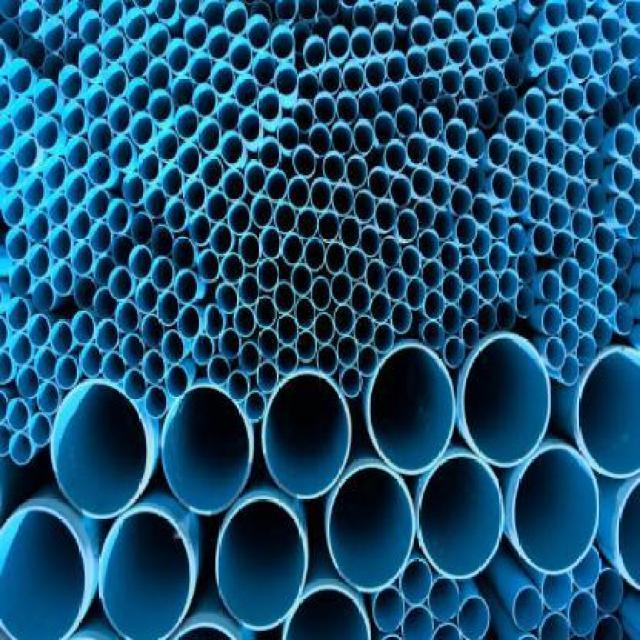pipe: (53, 380, 150, 519), (99, 506, 196, 639), (162, 381, 253, 517), (217, 495, 308, 631), (462, 332, 551, 466), (2, 505, 91, 639), (366, 341, 454, 474), (262, 368, 351, 499), (514, 443, 600, 576), (328, 465, 416, 593), (419, 452, 505, 580), (576, 345, 639, 478), (283, 583, 372, 639), (428, 577, 461, 623), (400, 560, 433, 606), (372, 586, 405, 631), (457, 596, 491, 639), (514, 586, 545, 631), (573, 545, 602, 591), (568, 591, 596, 637), (594, 570, 622, 613), (401, 605, 434, 639), (543, 573, 572, 610), (8, 57, 33, 94), (34, 346, 59, 382), (59, 65, 84, 101), (79, 45, 104, 81), (54, 356, 80, 390), (10, 332, 36, 366), (148, 89, 174, 123), (19, 2, 45, 36), (160, 329, 185, 363), (108, 266, 133, 300), (68, 206, 93, 240), (265, 169, 290, 203), (200, 156, 225, 190), (292, 145, 317, 179), (420, 106, 445, 140), (192, 83, 217, 117), (274, 63, 299, 97), (228, 37, 253, 71), (223, 0, 248, 34), (51, 320, 74, 356), (6, 297, 29, 333), (174, 269, 197, 305), (14, 134, 37, 170), (13, 97, 36, 133), (34, 78, 57, 114), (234, 72, 257, 108), (253, 51, 276, 87), (350, 26, 373, 62), (15, 366, 40, 399), (115, 301, 140, 334), (220, 252, 245, 285), (211, 223, 236, 256), (222, 169, 247, 202), (65, 137, 90, 170), (174, 106, 199, 139), (126, 78, 151, 111), (540, 610, 568, 639), (6, 228, 29, 263), (102, 28, 125, 63), (157, 291, 179, 327), (93, 286, 117, 319), (309, 121, 331, 157), (578, 14, 600, 50), (30, 414, 53, 448), (37, 382, 60, 416), (122, 334, 145, 368), (28, 314, 51, 348), (73, 311, 96, 345), (254, 296, 277, 330), (136, 280, 159, 314), (10, 263, 33, 297), (51, 262, 74, 296), (151, 256, 174, 290), (239, 232, 262, 266), (50, 228, 73, 262), (131, 211, 154, 245), (613, 194, 636, 228), (2, 194, 25, 228), (183, 179, 206, 213), (43, 157, 66, 191), (88, 152, 111, 186), (259, 136, 282, 170), (131, 111, 154, 145), (239, 108, 262, 142), (62, 102, 85, 136), (108, 100, 131, 134), (257, 88, 280, 122), (608, 62, 631, 96), (211, 62, 234, 96), (148, 59, 171, 93), (126, 45, 149, 79), (271, 25, 294, 59), (146, 23, 169, 57), (185, 16, 208, 50), (125, 8, 148, 42), (63, 0, 86, 34), (206, 356, 231, 387), (102, 352, 127, 383), (95, 320, 120, 351), (88, 222, 113, 253), (89, 120, 114, 151), (171, 76, 196, 107), (188, 52, 213, 83), (143, 350, 165, 385), (108, 199, 130, 234), (10, 432, 33, 465), (80, 345, 103, 378), (257, 328, 280, 361), (276, 314, 299, 347), (282, 232, 305, 265), (26, 211, 49, 244), (86, 188, 109, 221), (411, 166, 434, 199), (110, 137, 133, 170), (156, 129, 179, 162), (197, 118, 220, 151), (503, 111, 526, 144), (336, 91, 359, 124), (303, 35, 326, 68), (600, 12, 623, 45), (179, 305, 200, 341), (81, 9, 102, 45), (8, 399, 30, 433), (257, 360, 279, 394), (558, 320, 580, 354), (74, 276, 96, 310), (129, 245, 151, 279), (189, 212, 211, 246), (317, 209, 339, 243), (397, 208, 419, 242), (311, 179, 333, 213), (288, 176, 310, 210), (23, 174, 45, 208), (65, 172, 87, 206), (162, 163, 184, 197), (346, 154, 368, 188), (385, 139, 407, 173), (614, 123, 636, 157), (37, 116, 59, 150), (395, 103, 417, 137), (292, 99, 314, 133), (314, 92, 336, 126), (358, 88, 380, 122), (585, 79, 607, 113), (343, 59, 365, 93), (532, 34, 554, 68), (328, 25, 350, 59), (43, 19, 65, 53), (357, 345, 379, 378), (545, 337, 567, 370), (142, 315, 164, 348), (391, 301, 413, 334), (274, 281, 296, 314), (331, 272, 353, 305), (477, 271, 499, 304), (72, 243, 94, 276), (380, 235, 402, 268), (165, 198, 187, 231), (252, 195, 274, 228), (145, 186, 167, 219), (449, 185, 471, 218), (369, 166, 391, 199), (612, 160, 634, 193), (428, 141, 450, 174), (222, 132, 244, 165), (406, 132, 428, 165), (332, 121, 354, 154), (278, 118, 300, 151), (545, 98, 567, 131), (523, 88, 545, 121), (463, 69, 485, 102), (320, 61, 342, 94), (365, 57, 387, 90), (2, 20, 24, 53), (454, 1, 476, 34), (311, 275, 331, 311), (245, 160, 265, 196), (374, 111, 394, 147), (241, 342, 262, 376), (199, 249, 220, 283), (28, 246, 49, 280), (179, 142, 200, 176), (87, 83, 108, 117), (105, 65, 126, 99), (168, 39, 189, 73), (208, 26, 229, 60), (248, 16, 269, 50), (219, 328, 242, 359), (559, 289, 582, 320), (257, 260, 280, 291), (574, 240, 597, 271), (173, 237, 196, 268), (151, 225, 174, 256), (296, 208, 319, 239), (228, 203, 251, 234), (331, 185, 354, 216), (379, 83, 402, 114), (297, 71, 320, 102), (373, 23, 396, 54), (551, 231, 576, 259), (412, 200, 437, 228), (619, 28, 639, 63), (124, 172, 145, 205), (219, 98, 240, 131), (2, 152, 21, 188), (342, 368, 364, 399), (166, 366, 188, 397), (317, 345, 339, 376), (337, 336, 359, 367), (192, 336, 214, 367), (354, 316, 376, 347), (234, 306, 256, 337), (332, 305, 354, 336), (423, 289, 445, 320), (238, 274, 260, 305), (575, 272, 597, 303), (291, 265, 313, 296), (560, 259, 582, 290), (595, 256, 617, 287), (400, 246, 422, 277), (418, 229, 440, 260), (532, 223, 554, 254), (594, 223, 616, 254), (340, 217, 362, 248), (455, 216, 477, 247), (571, 209, 593, 240), (432, 209, 454, 240), (274, 203, 296, 234), (374, 200, 396, 231), (548, 200, 570, 231), (46, 194, 68, 225), (206, 192, 228, 223), (323, 152, 345, 183), (138, 151, 160, 182), (563, 146, 585, 177), (602, 97, 624, 128), (442, 65, 464, 96), (43, 52, 65, 83), (406, 46, 428, 77), (411, 16, 433, 47), (432, 11, 454, 42), (614, 302, 634, 336), (296, 297, 316, 331), (305, 237, 325, 271), (262, 226, 282, 260), (391, 174, 411, 208), (526, 157, 546, 191), (508, 145, 528, 179), (216, 283, 239, 312), (562, 83, 585, 112), (23, 39, 46, 68), (297, 331, 317, 364), (314, 312, 334, 345), (442, 303, 462, 336), (460, 286, 480, 319), (34, 280, 54, 313), (406, 278, 426, 311), (386, 268, 406, 301), (360, 225, 380, 258), (529, 191, 549, 224), (354, 189, 374, 222), (509, 181, 529, 214), (431, 175, 451, 208), (585, 151, 605, 184), (525, 123, 545, 156), (386, 51, 406, 84), (228, 371, 249, 402), (96, 256, 117, 287), (205, 305, 224, 339), (588, 183, 607, 217), (456, 100, 479, 128), (353, 2, 376, 30), (543, 2, 566, 30), (594, 616, 622, 639), (277, 347, 299, 376), (546, 63, 568, 92), (569, 51, 591, 80), (542, 271, 561, 304), (545, 134, 564, 167), (560, 356, 580, 387), (374, 323, 394, 354), (496, 300, 516, 331), (371, 292, 391, 323), (351, 283, 371, 314), (442, 272, 462, 303), (611, 271, 631, 302), (499, 269, 519, 300), (346, 249, 366, 280), (326, 243, 346, 274), (613, 237, 633, 268), (471, 228, 491, 259), (473, 194, 493, 225), (493, 169, 513, 200), (546, 168, 566, 199), (465, 129, 485, 160), (446, 120, 466, 151), (585, 117, 605, 148), (400, 77, 420, 108), (422, 72, 442, 103), (483, 62, 503, 93), (503, 57, 523, 88), (593, 46, 613, 77), (469, 39, 489, 70), (476, 6, 496, 37), (440, 243, 462, 271), (565, 180, 587, 208), (562, 117, 584, 145), (489, 34, 511, 62), (367, 259, 385, 293), (490, 206, 508, 240), (354, 120, 372, 154), (202, 2, 225, 28), (490, 241, 508, 274), (508, 223, 526, 256), (490, 134, 508, 167), (477, 95, 495, 128), (555, 28, 577, 55), (577, 336, 596, 367), (515, 286, 534, 317), (517, 252, 536, 283), (498, 88, 517, 119), (511, 25, 530, 56), (292, 23, 311, 54), (542, 307, 562, 336), (596, 288, 616, 317), (460, 256, 480, 285), (448, 154, 468, 183), (448, 34, 468, 63), (374, 2, 397, 27), (422, 262, 444, 288), (495, 3, 517, 29), (102, 0, 124, 26), (577, 305, 597, 333), (428, 43, 448, 71), (477, 303, 495, 334), (423, 323, 445, 348), (594, 319, 613, 347), (396, 2, 416, 28), (274, 2, 297, 24), (0, 77, 13, 113), (625, 75, 639, 108), (154, 2, 177, 22), (1, 350, 14, 385), (566, 2, 586, 24), (297, 2, 319, 22), (2, 2, 24, 22), (437, 96, 457, 117), (177, 1, 203, 17), (623, 2, 639, 27), (2, 423, 13, 459), (318, 2, 340, 19), (42, 1, 65, 17)
